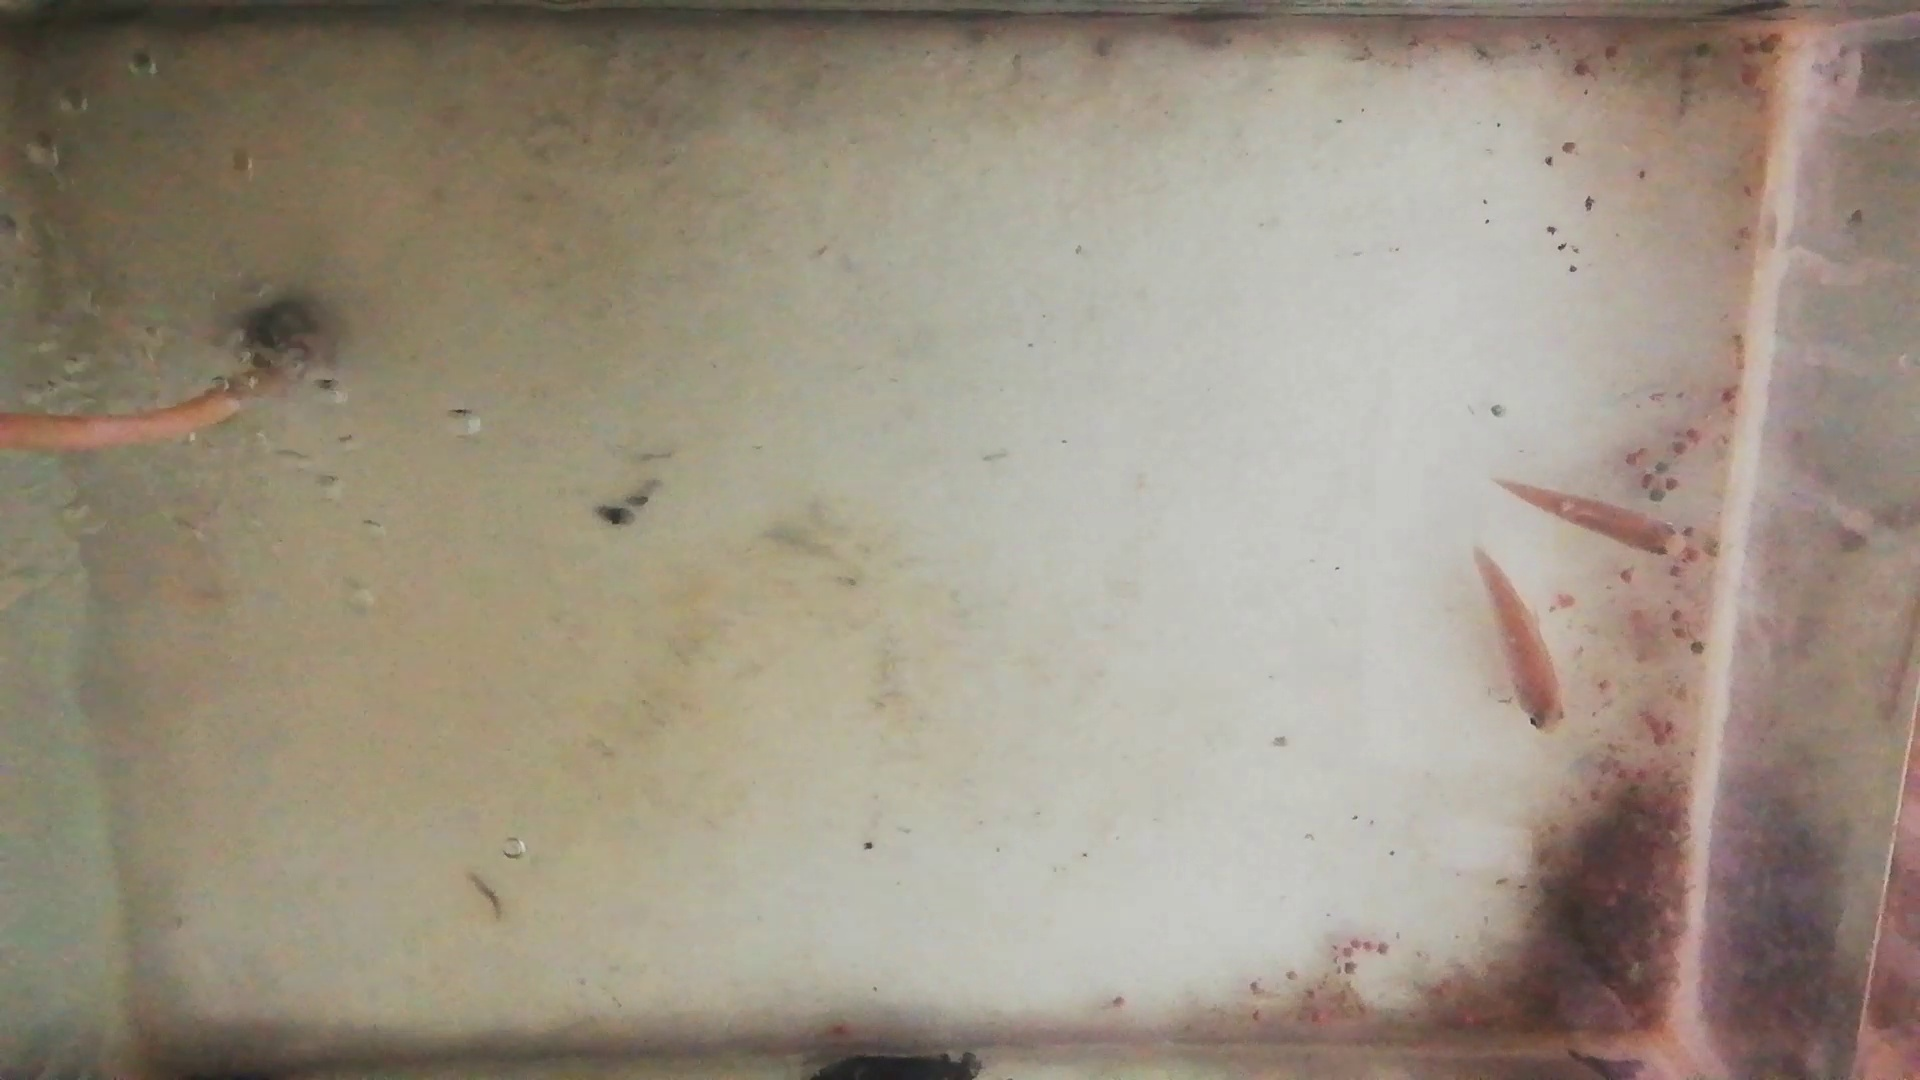fish: (1474, 545, 1569, 738), (1493, 473, 1691, 558)
